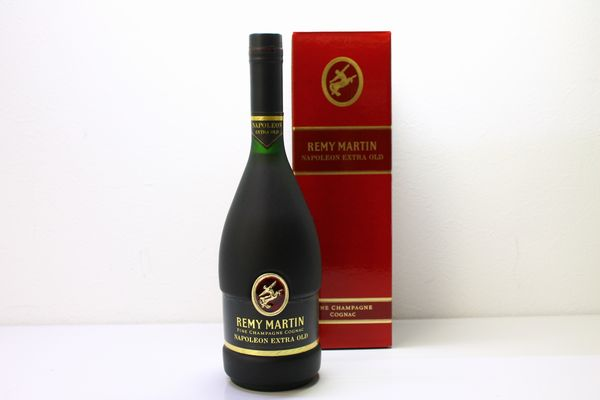Remy Martin: (205, 22, 336, 398)
